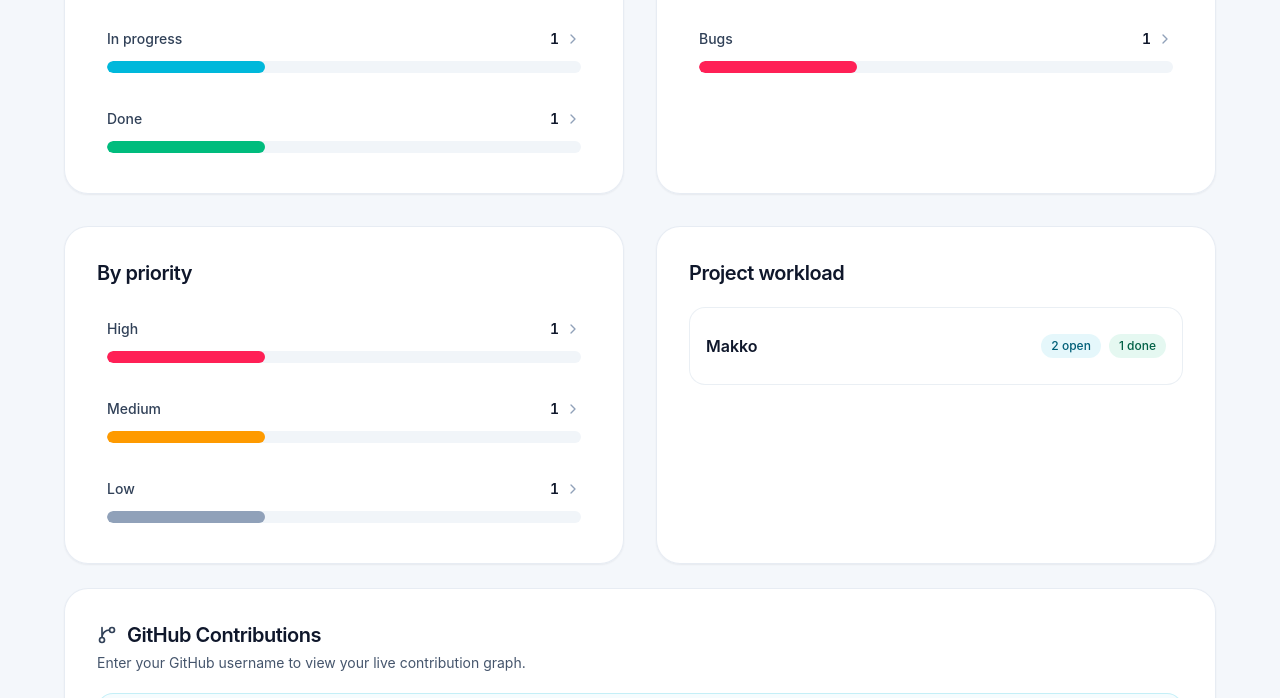
Test: DashboardPage › opens matching internal issue and project details from a breakdown row
This screenshot has width=1280, height=698.
(page scrolled)
Click the button with aria-label "High, 1 internal issue, show issue details" at (123, 328), box [97, 306, 591, 370]
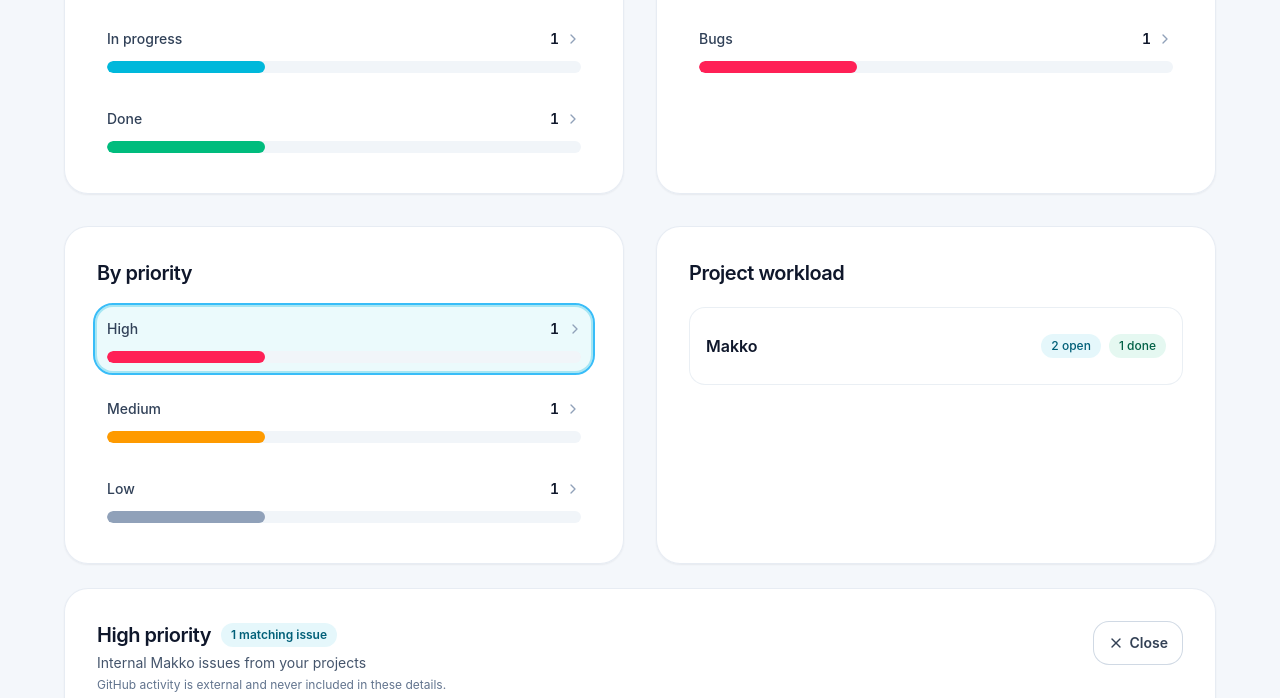
Now the element "High priority" shows "Internal Makko issues from your projects", box [97, 654, 366, 670]
